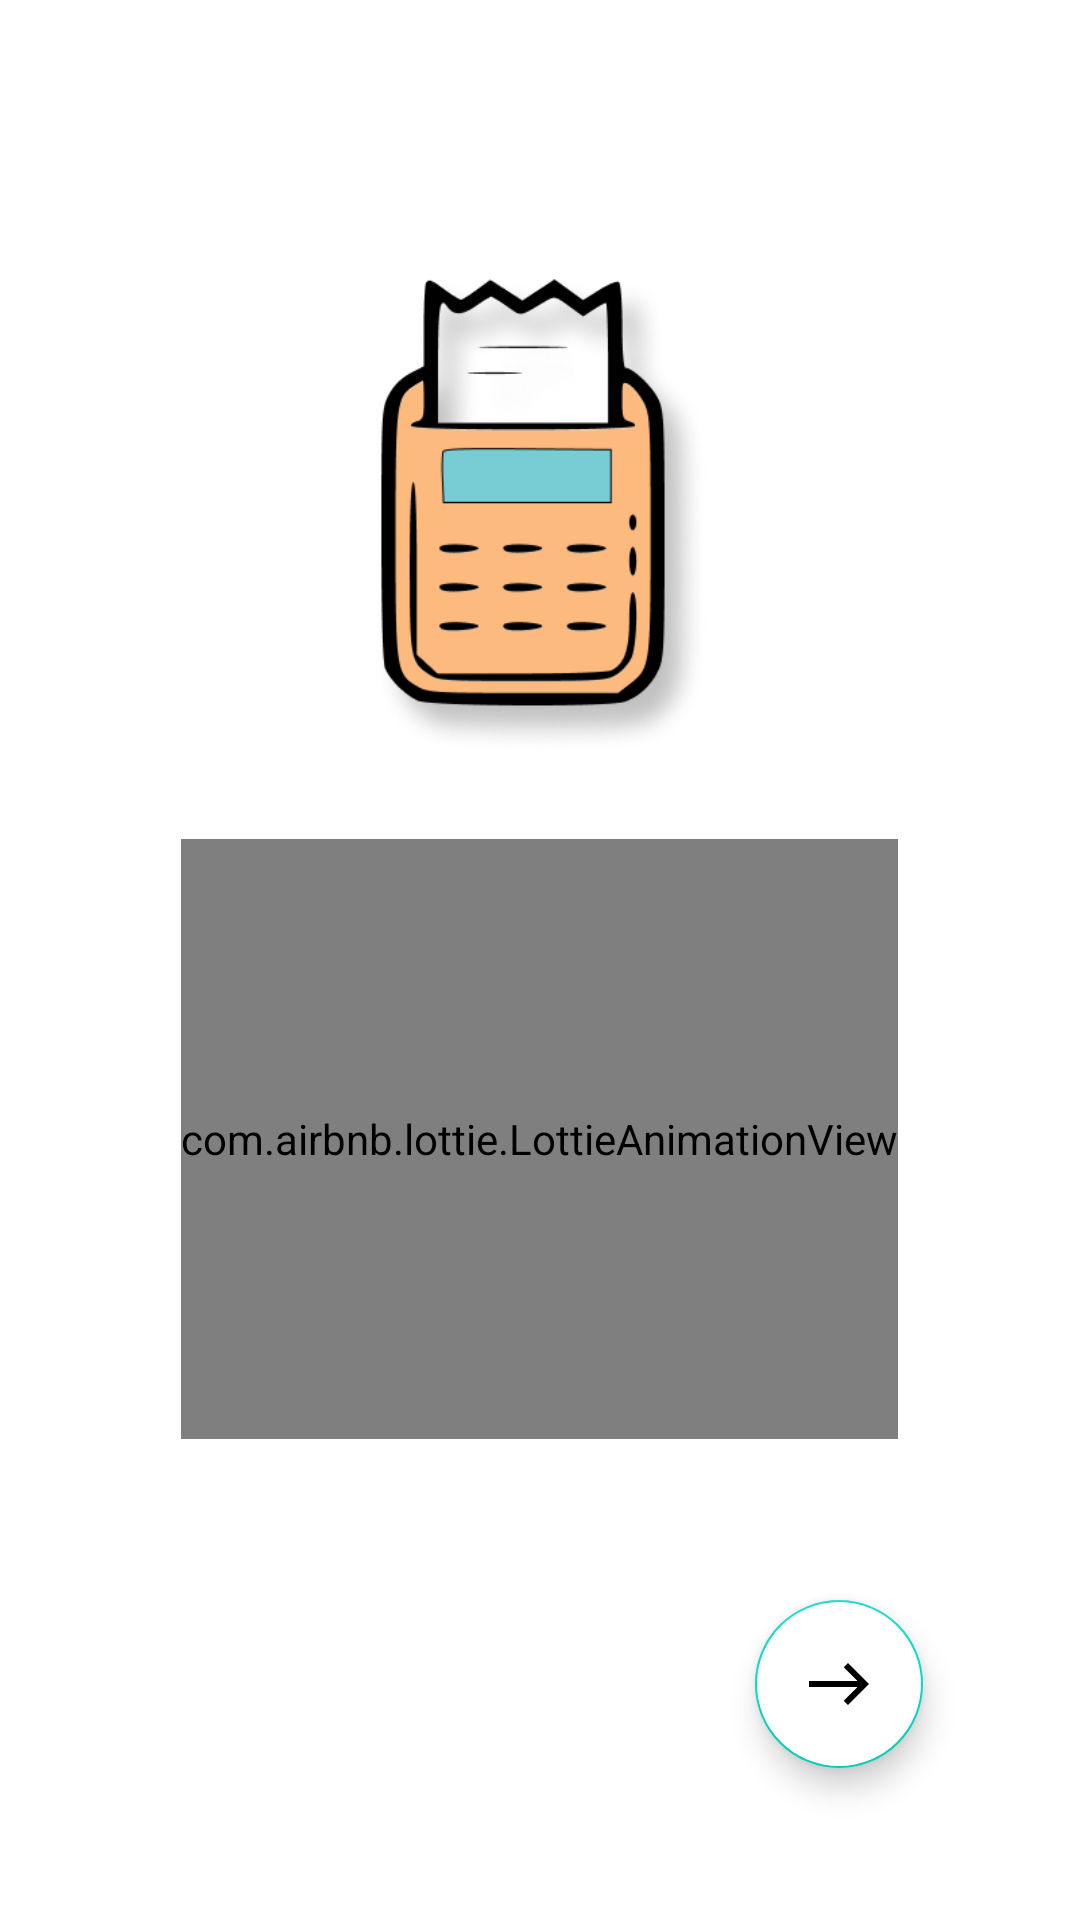

Icons on this 1080 × 1920 Android screen, each with the point to tap as point (x, y):
next: point (839, 1684)
